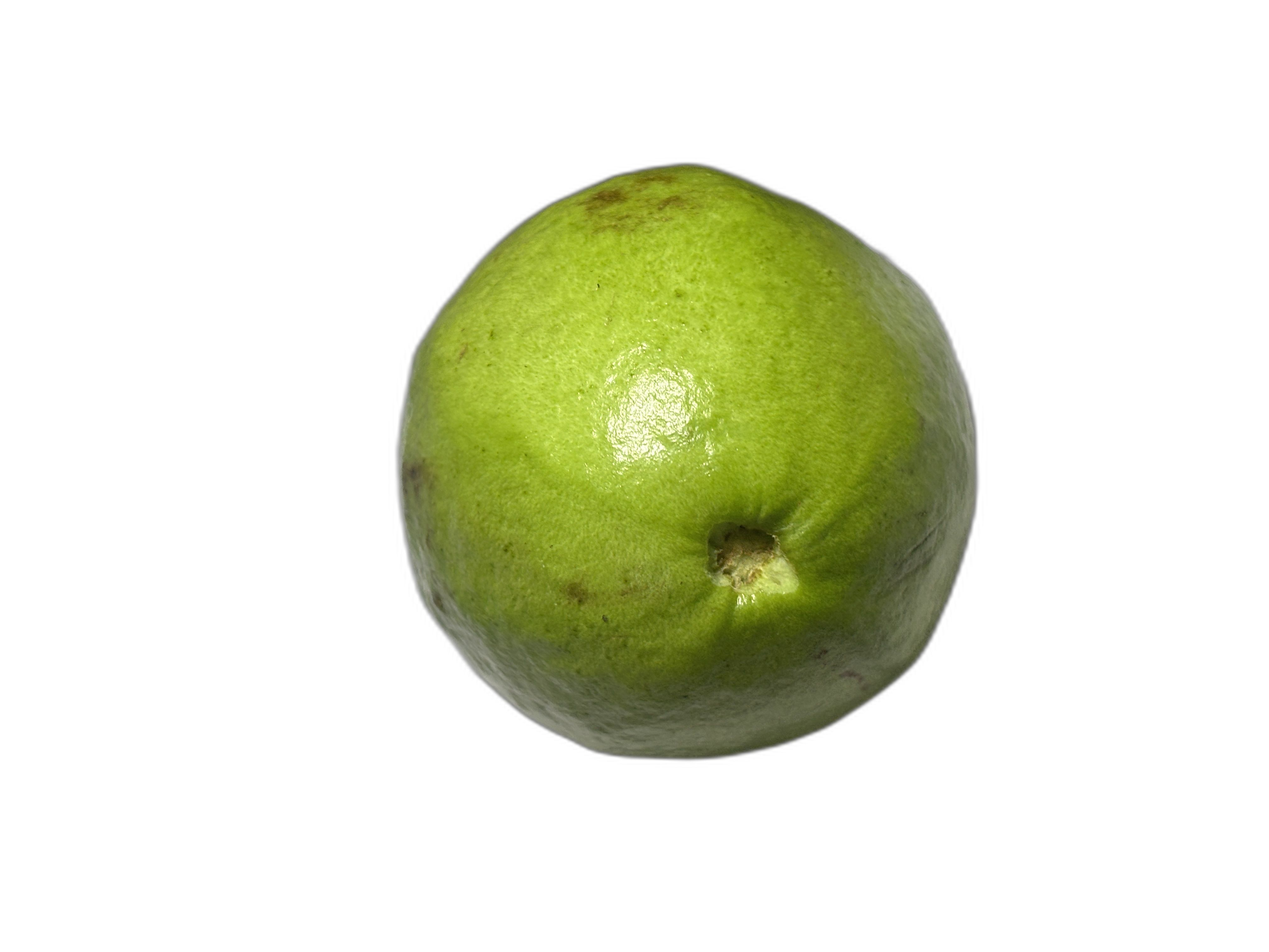guava: (83, 109, 1126, 763)
